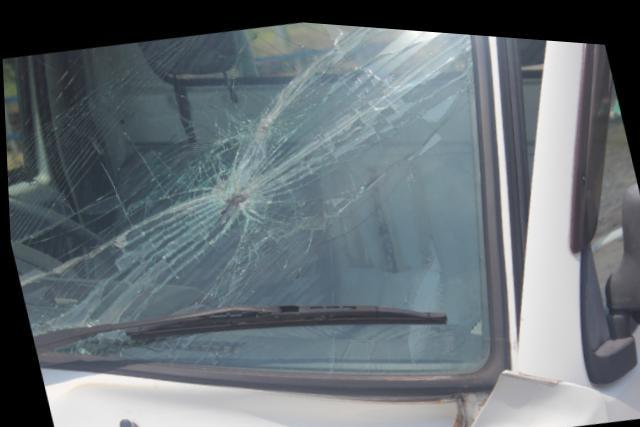glass shatter: (2, 17, 485, 368)
